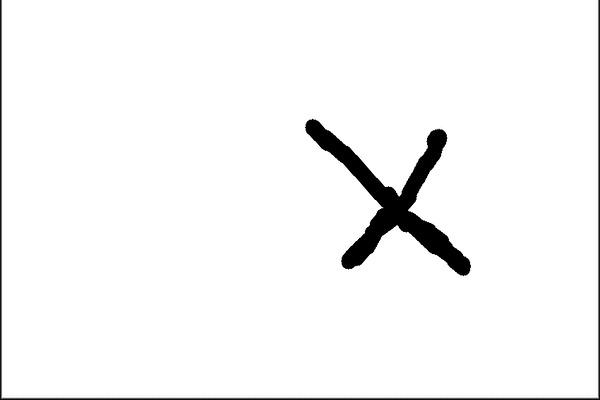X: (287, 97, 492, 287)
